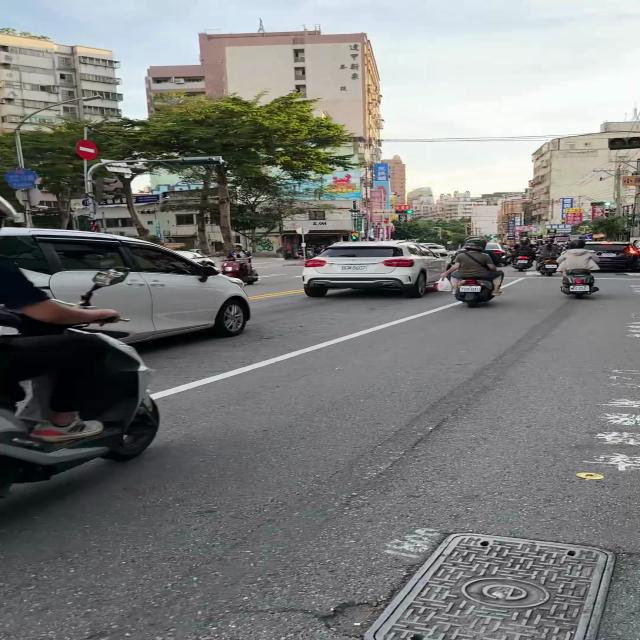car: (0, 228, 249, 342), (302, 241, 446, 298), (585, 241, 640, 271)
motocycle: (0, 330, 159, 492), (454, 279, 494, 307), (560, 269, 598, 296), (221, 261, 256, 284), (536, 258, 558, 276), (512, 256, 532, 271)
